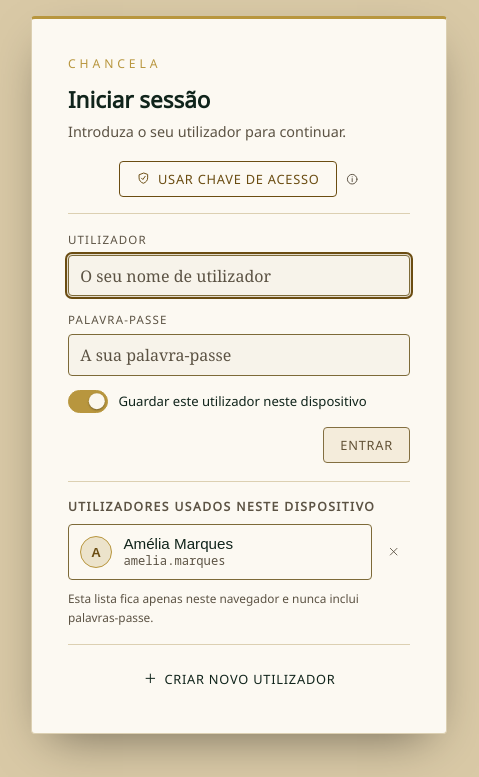
Test: SignIn — recently used identifiers (device-local) › recents come from THIS device, not the roster, and clicking one fills the field
Expected: the heading "Utilizadores usados neste dispositivo" is shown, x1=68 y1=498 x2=410 y2=516
Click the text "amelia.marques" at (178, 561), box x1=123 y1=552 x2=233 y2=569
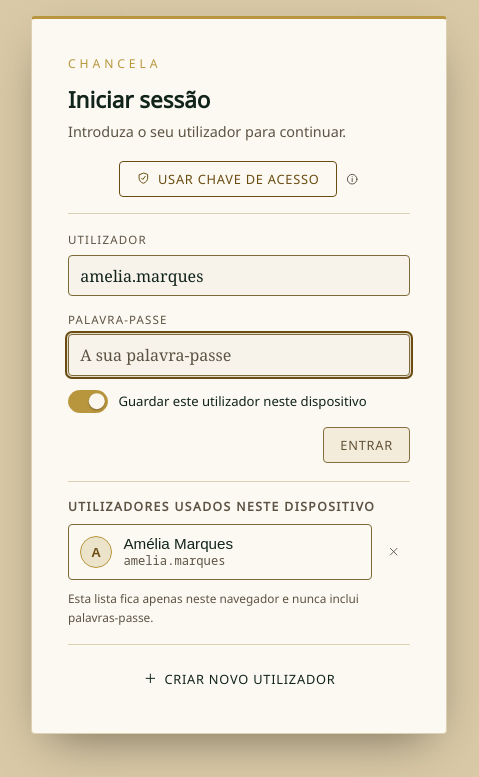
Expected: the field labelled "Utilizador" holds "amelia.marques", x1=68 y1=255 x2=410 y2=296
